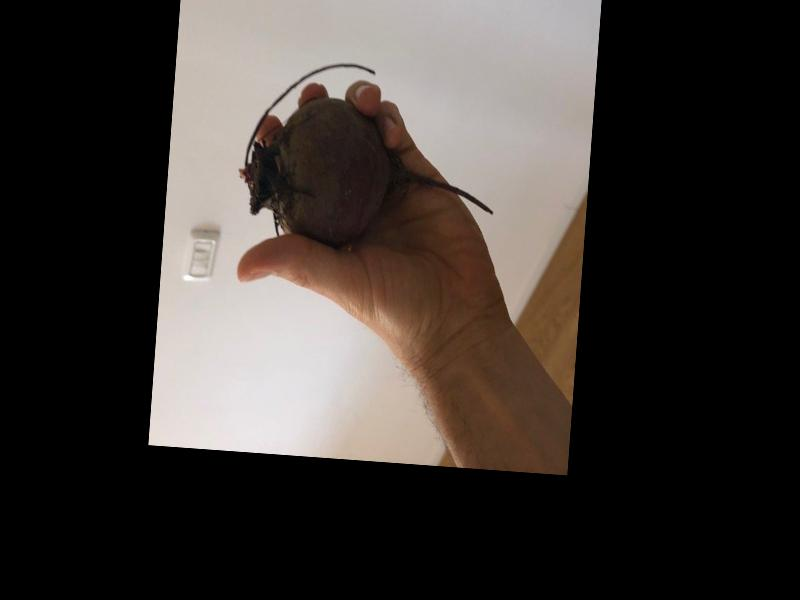Beet: (235, 54, 502, 253)
